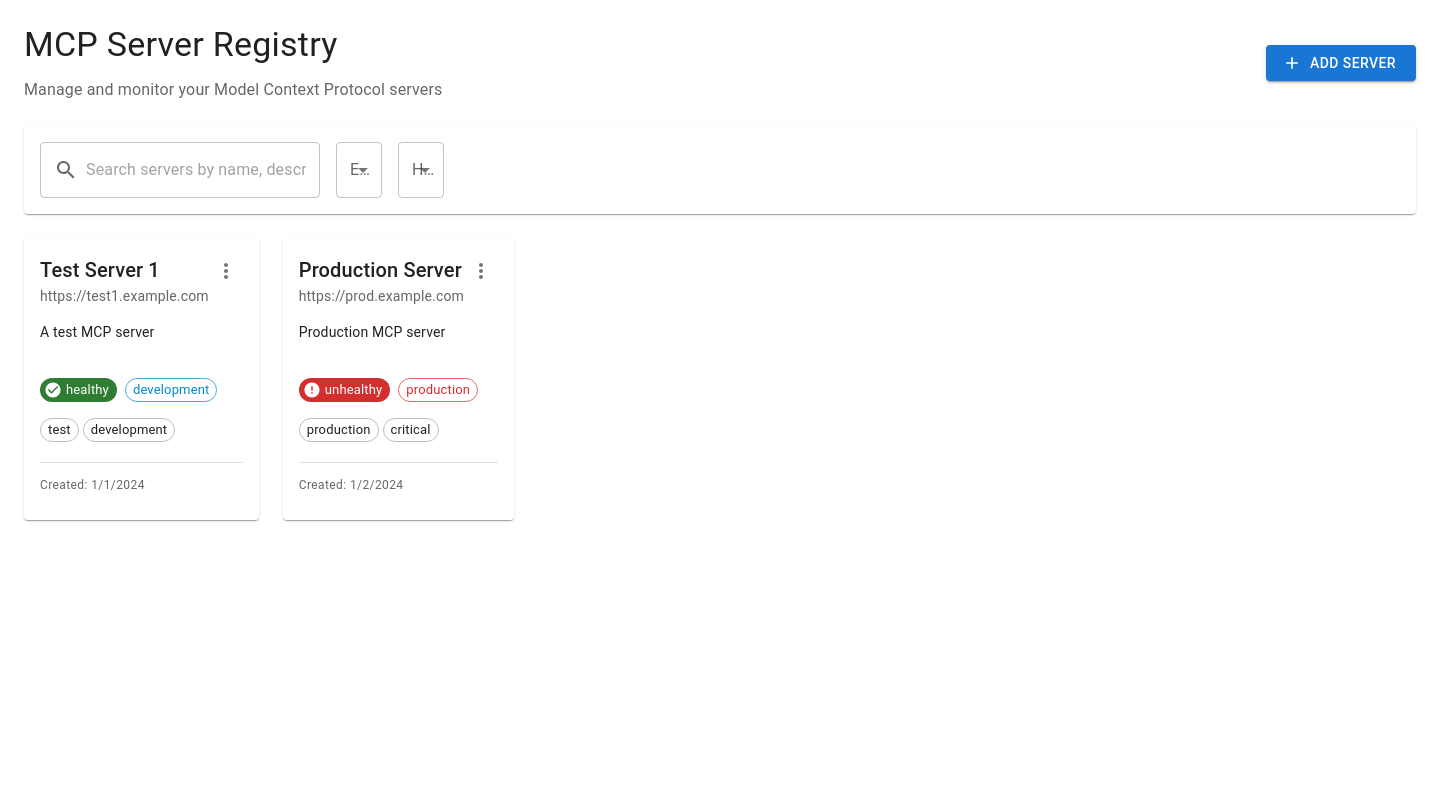
Test: RegistryPage › should open delete confirmation dialog when delete is clicked
Check: the heading "Test Server 1" is shown, box x1=40 y1=258 x2=160 y2=282
Click the button without text next to "Test Server 1" at (226, 271), box x1=209 y1=254 x2=243 y2=288
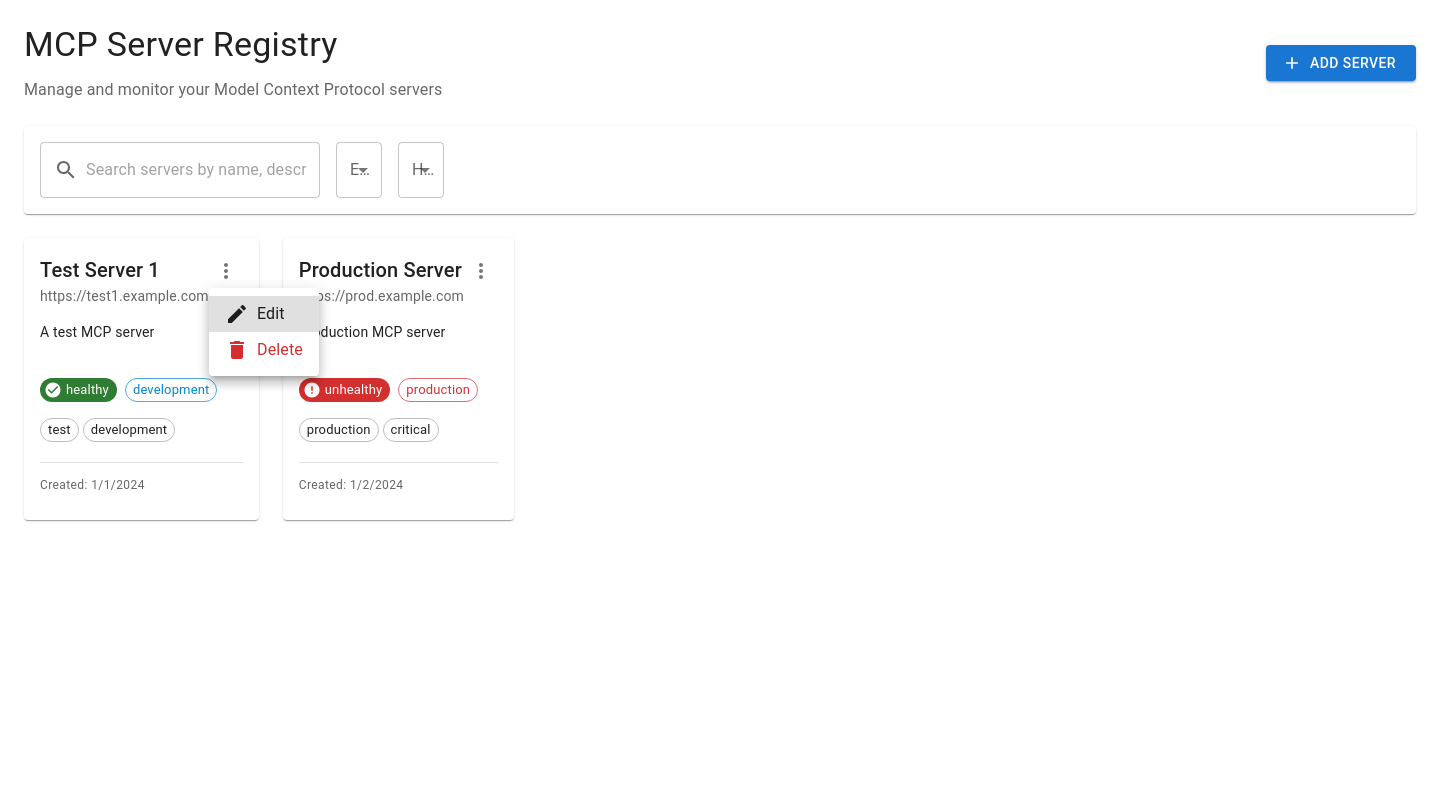
// Click delete option
Click the menu item "Delete" at (264, 350), box x1=225 y1=338 x2=303 y2=362
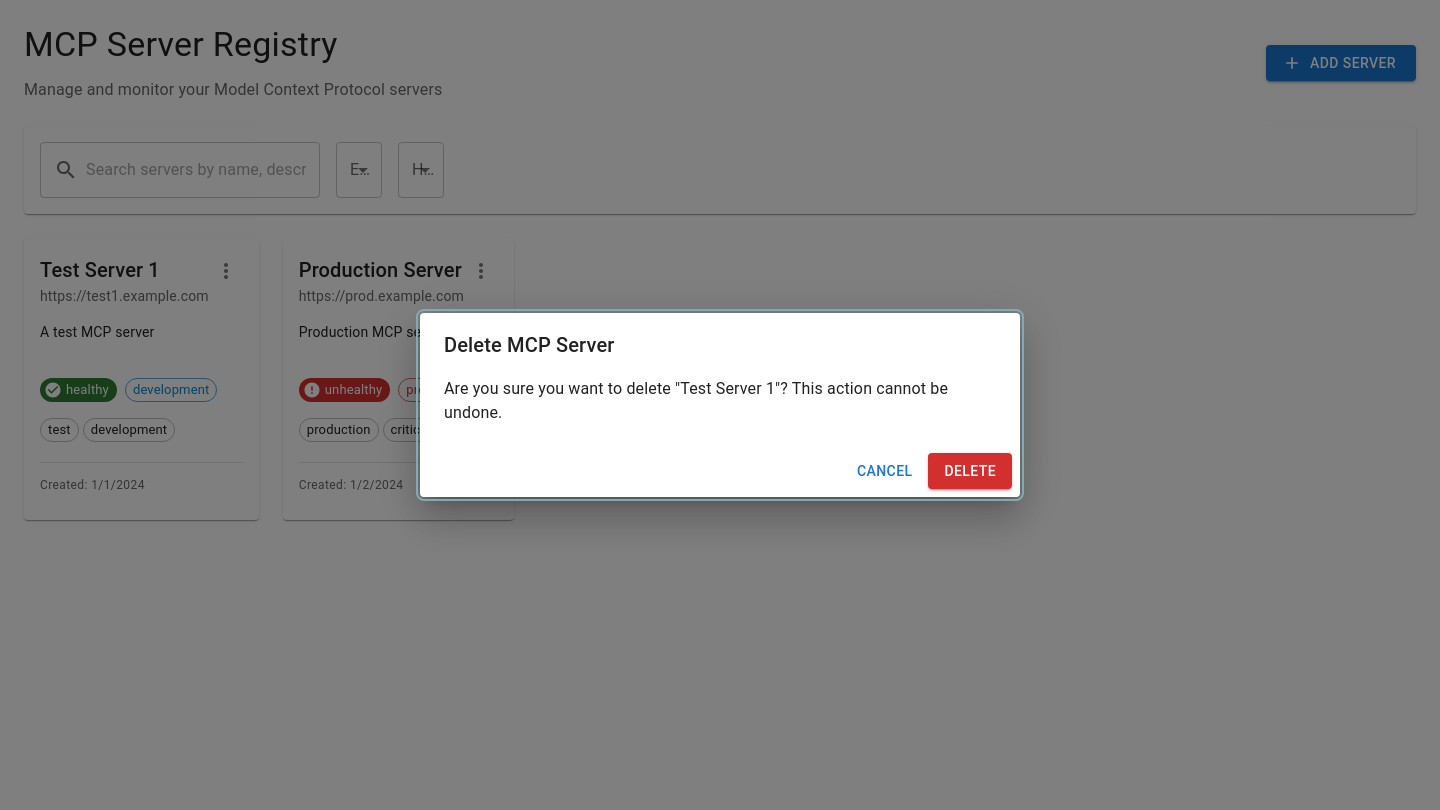
Check: the heading "Delete MCP Server" is shown, box x1=444 y1=333 x2=614 y2=357
Check: the text "Are you sure you want to delete \"Test Server 1\"" is shown, box x1=444 y1=377 x2=996 y2=425
